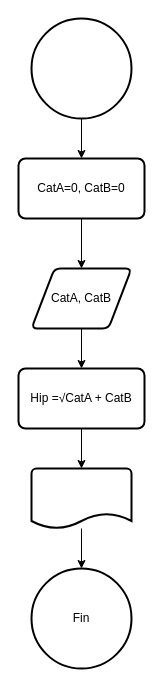
The diagram is 162 pixels wide and 686 high, and some of its shapes have lost their labels. Each missing label, with the box of its shape:
Hipotenusa: (30, 467, 132, 529)
Inicio: (30, 17, 132, 119)
